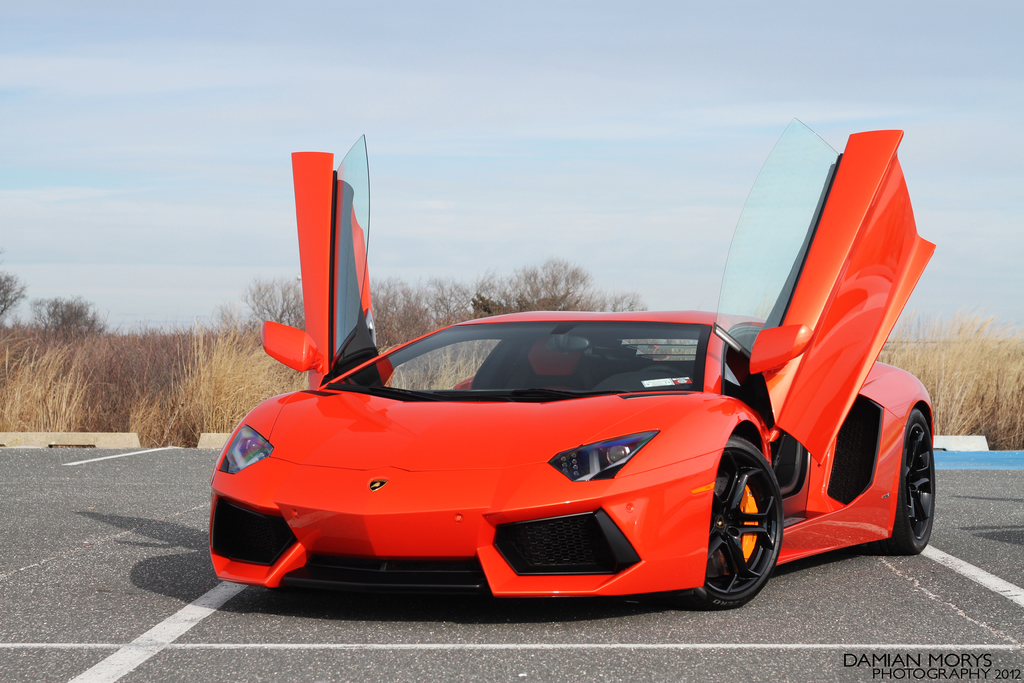Car: (207, 112, 935, 588)
